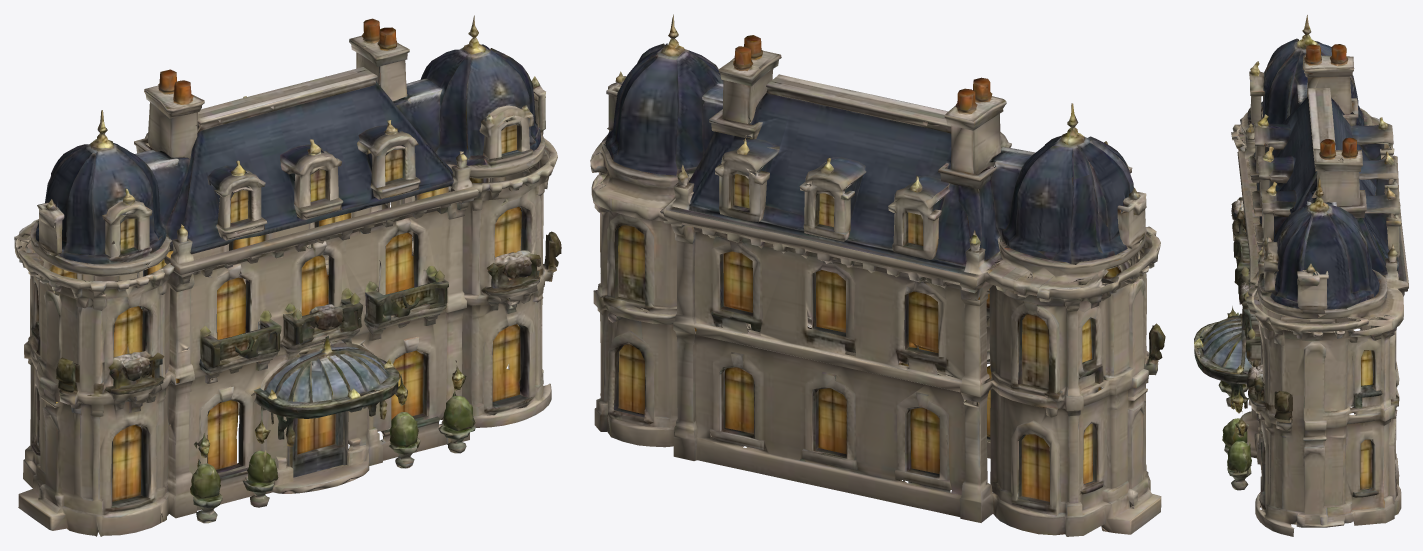
3 renders of one model, left to right at view 1: azimuth 30°, elevation 25°; view 2: azimuth 150°, elevation 25°; view 3: azimuth 270°, elevation 25°, orthographic. The views are drawn at different scales.
Parts seen in each view (by area): view 1: classic__skyscraper_2__native_mobile; view 2: classic__skyscraper_2__native_mobile; view 3: classic__skyscraper_2__native_mobile.
Part boxes in pixels (x1,y1,x2,y2): classic__skyscraper_2__native_mobile: (14,15,561,536); classic__skyscraper_2__native_mobile: (590,14,1165,536); classic__skyscraper_2__native_mobile: (1194,15,1408,536).
Bounding box in the file's own units: 1 × 0.7344 × 0.4128.
1 material, 1 textured.
